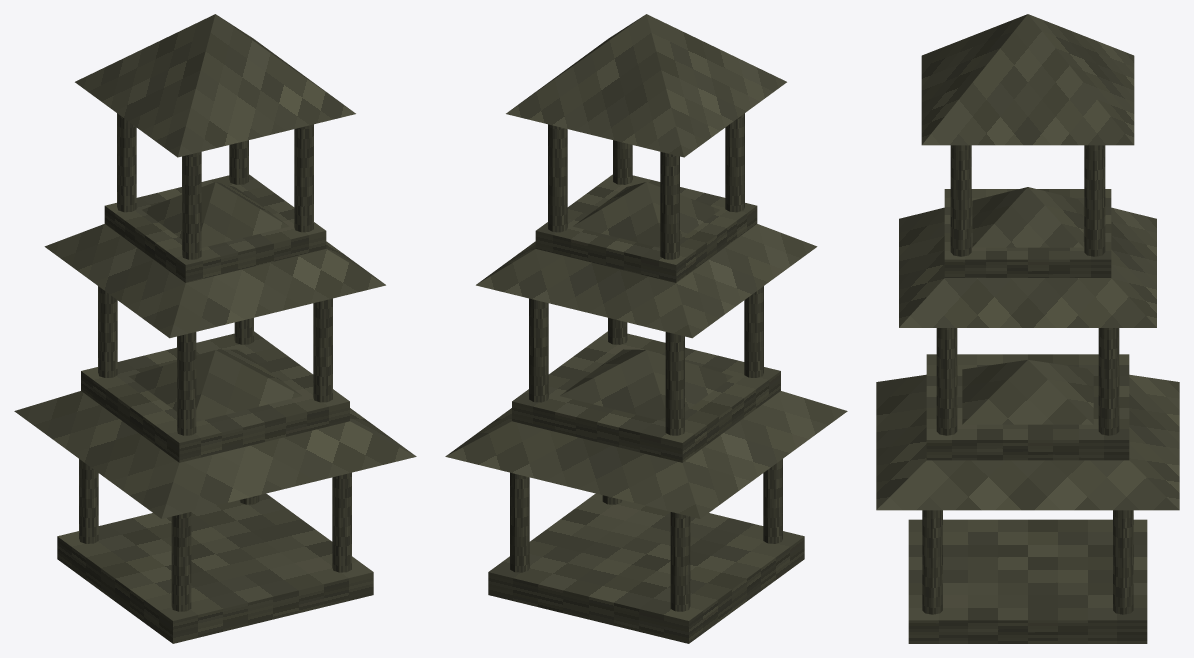
Rendered from pagoda_12.glb.
3 renders of one model, left to right at view 1: azimuth 30°, elevation 25°; view 2: azimuth 150°, elevation 25°; view 3: azimuth 270°, elevation 25°, orthographic. The views are drawn at different scales.
Visible parts, largest first — view 1: Floor, Roof, Roof.002, Roof.001, Floor.001, Floor.002, Column.008, Column.010, Column, Column.006, Column.004, Column.002 (+4 smaller); view 2: Floor, Roof, Roof.002, Roof.001, Floor.001, Floor.002, Column.009, Column.011, Column.001, Column.007, Column.005, Column.003 (+4 smaller); view 3: Roof, Floor, Roof.001, Roof.002, Floor.001, Floor.002, Column.010, Column.011, Column.006, Column.007, Column.002, Column.003.
Part boxes in pixels (x1,y1,x2,y2): Floor: [57, 493, 373, 643]; Roof: [14, 349, 416, 518]; Roof.002: [75, 14, 355, 157]; Roof.001: [44, 182, 385, 338]; Floor.001: [81, 331, 349, 462]; Floor.002: [104, 174, 326, 282]; Column.008: [182, 152, 201, 259]; Column.010: [294, 124, 313, 232]; Column: [171, 512, 191, 611]; Column.006: [313, 298, 332, 402]; Column.004: [177, 332, 196, 435]; Column.002: [332, 472, 351, 572]; Floor: [488, 493, 804, 643]; Roof: [445, 349, 847, 518]; Roof.002: [506, 14, 786, 157]; Roof.001: [476, 182, 817, 338]; Floor.001: [512, 331, 780, 462]; Floor.002: [535, 174, 757, 282]; Column.009: [660, 152, 679, 259]; Column.011: [548, 124, 567, 232]; Column.001: [670, 512, 690, 611]; Column.007: [529, 298, 548, 402]; Column.005: [665, 332, 684, 435]; Column.003: [510, 472, 529, 572]; Roof: [876, 360, 1179, 510]; Floor: [908, 519, 1147, 643]; Roof.001: [899, 187, 1156, 327]; Roof.002: [921, 14, 1134, 145]; Floor.001: [926, 354, 1129, 460]; Floor.002: [944, 189, 1111, 277]; Column.010: [950, 145, 971, 256]; Column.011: [1084, 145, 1105, 256]; Column.006: [936, 328, 957, 435]; Column.007: [1098, 328, 1119, 435]; Column.002: [922, 510, 942, 614]; Column.003: [1113, 510, 1133, 614].
Bounding box in the file's own units: 3.5 × 7.38 × 3.5.
Materials: 1 (1 with a texture image).
